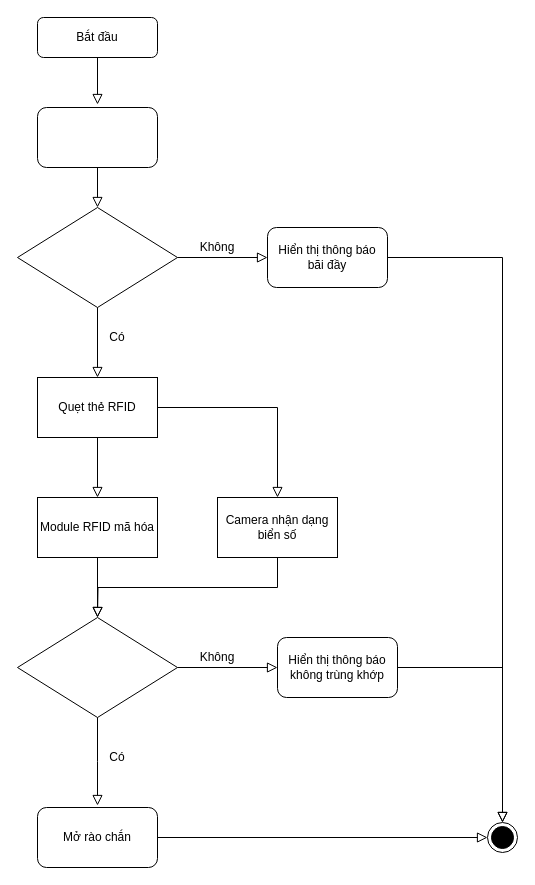
This 535x885 diagram has some shape labels left out. Each missing label, with the centre of its shape:
"Hiển thị thông báo chỗ trống" belongs at (x=97, y=137).
"Kiểm tra xem biển số xe có trùng khớp không?" belongs at (x=97, y=667).
"Kiểm tra xem còn chỗ trống hay không?" belongs at (x=97, y=257).
